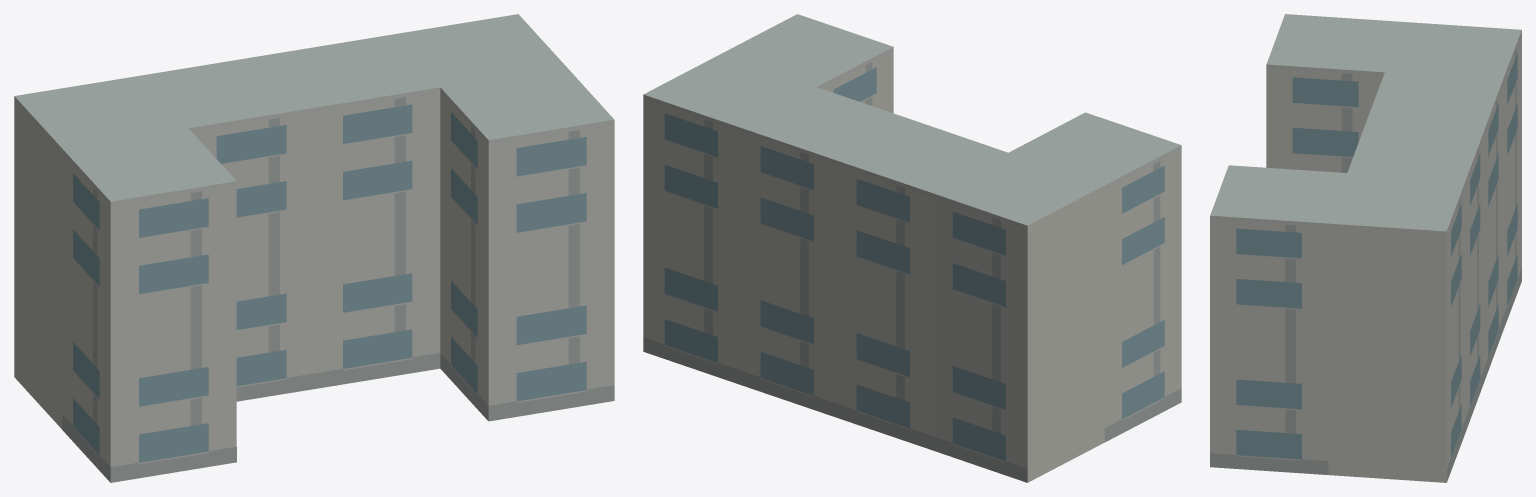
Rendered from residential-33253f5c-4fa4-4df3-9c73-def9e15cb511.glb.
3 renders of one model, left to right at view 1: azimuth 30°, elevation 25°; view 2: azimuth 150°, elevation 25°; view 3: azimuth 270°, elevation 25°, orthographic. The views are drawn at different scales.
Parts seen in each view (by area): view 1: residential-33253f5c-4fa4-4df3-9c73-def9e15cb511.tmp; view 2: residential-33253f5c-4fa4-4df3-9c73-def9e15cb511.tmp; view 3: residential-33253f5c-4fa4-4df3-9c73-def9e15cb511.tmp.
Boxes of the visible parts, x1,y1,x2,y2 form: residential-33253f5c-4fa4-4df3-9c73-def9e15cb511.tmp: (14,14,614,482); residential-33253f5c-4fa4-4df3-9c73-def9e15cb511.tmp: (643,14,1181,482); residential-33253f5c-4fa4-4df3-9c73-def9e15cb511.tmp: (1210,14,1521,482).
Bounding box in the file's own units: 28.28 × 15.25 × 17.14.
